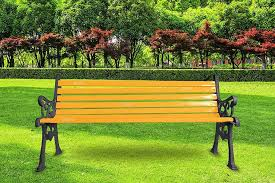Bench: (41, 77, 235, 164)
